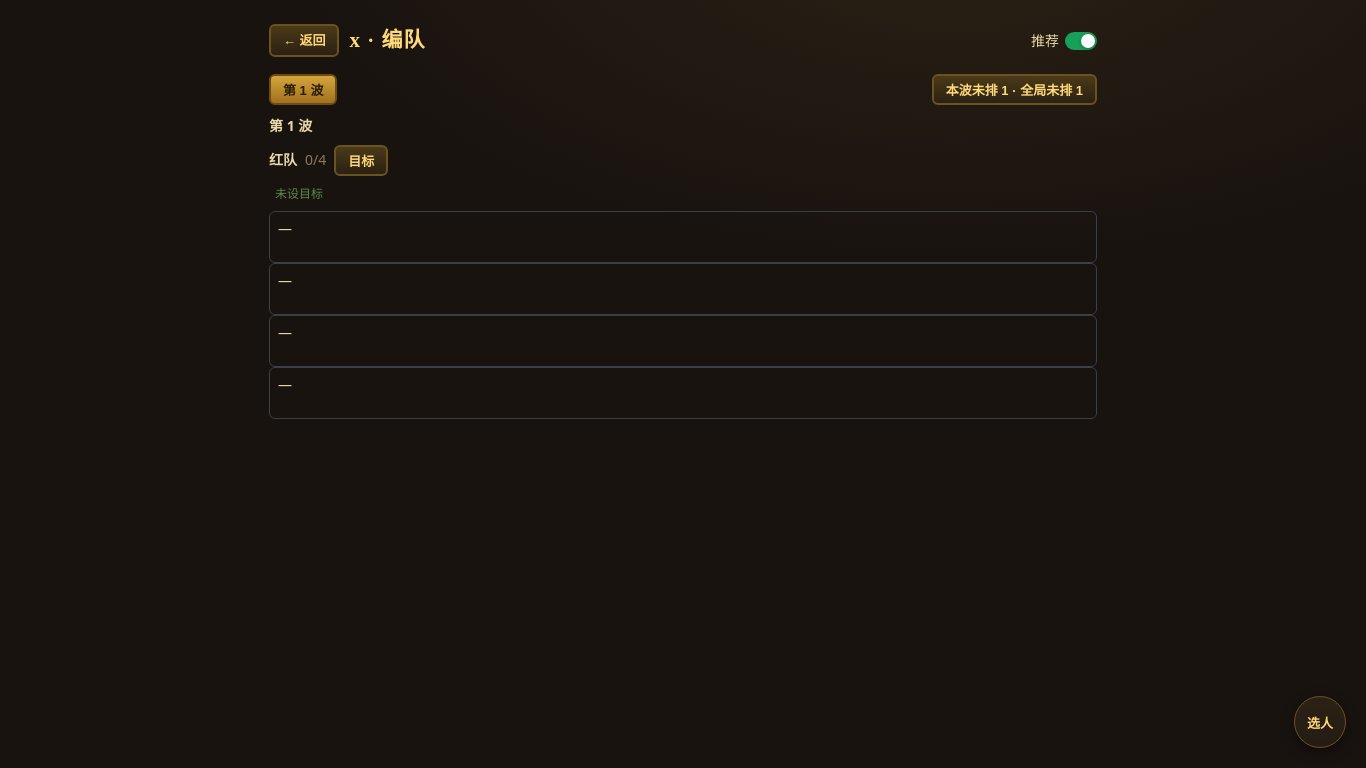
Scenario: RosterView › 渲染 FAB 与网格；点 FAB 打开角色池弹框
Expected: the element with test id "roster-grid" showing "第 1 波 红队 0/4 目标 未设目标 — — — —" is shown, [269, 115, 1097, 433]
Click the button with test id "pool-fab": (1320, 722) [1294, 696, 1346, 748]
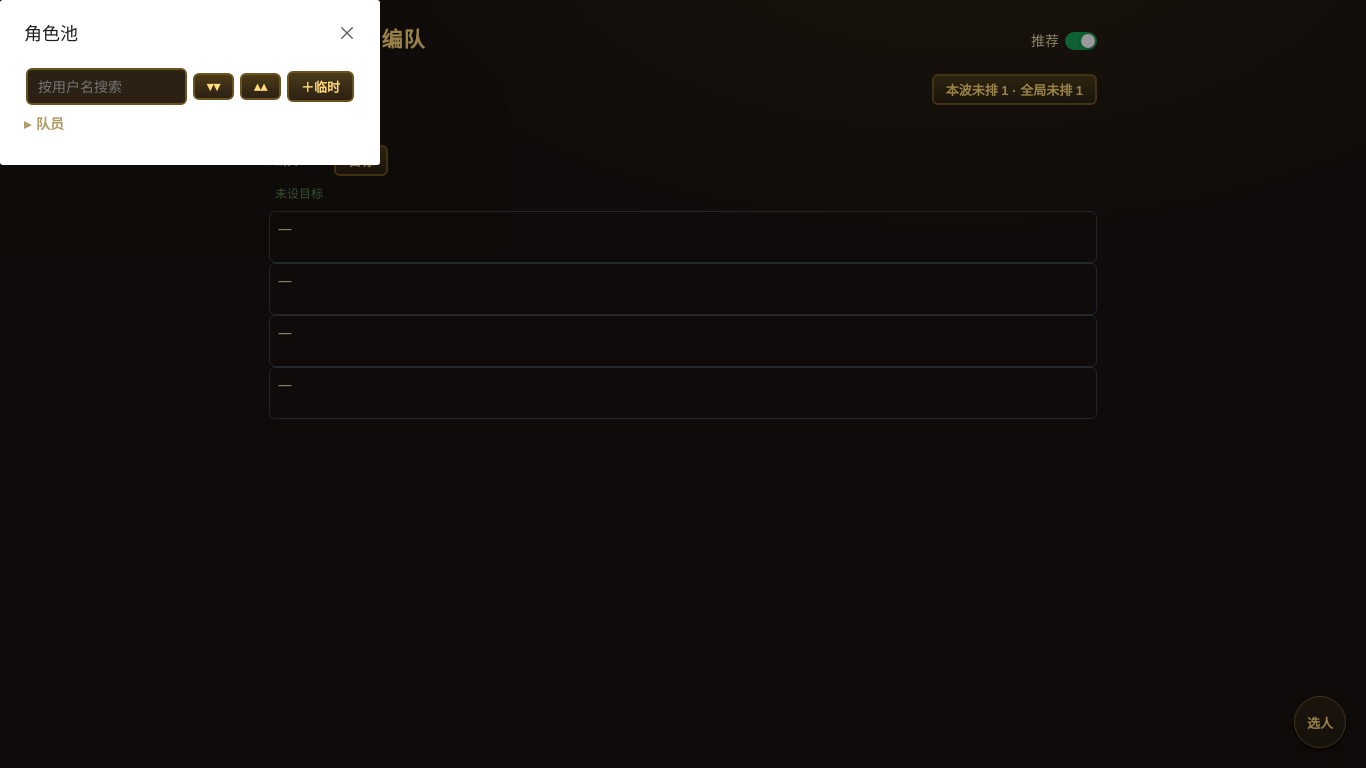
Click the element showing "▸ 队员": (44, 123) [24, 114, 64, 133]
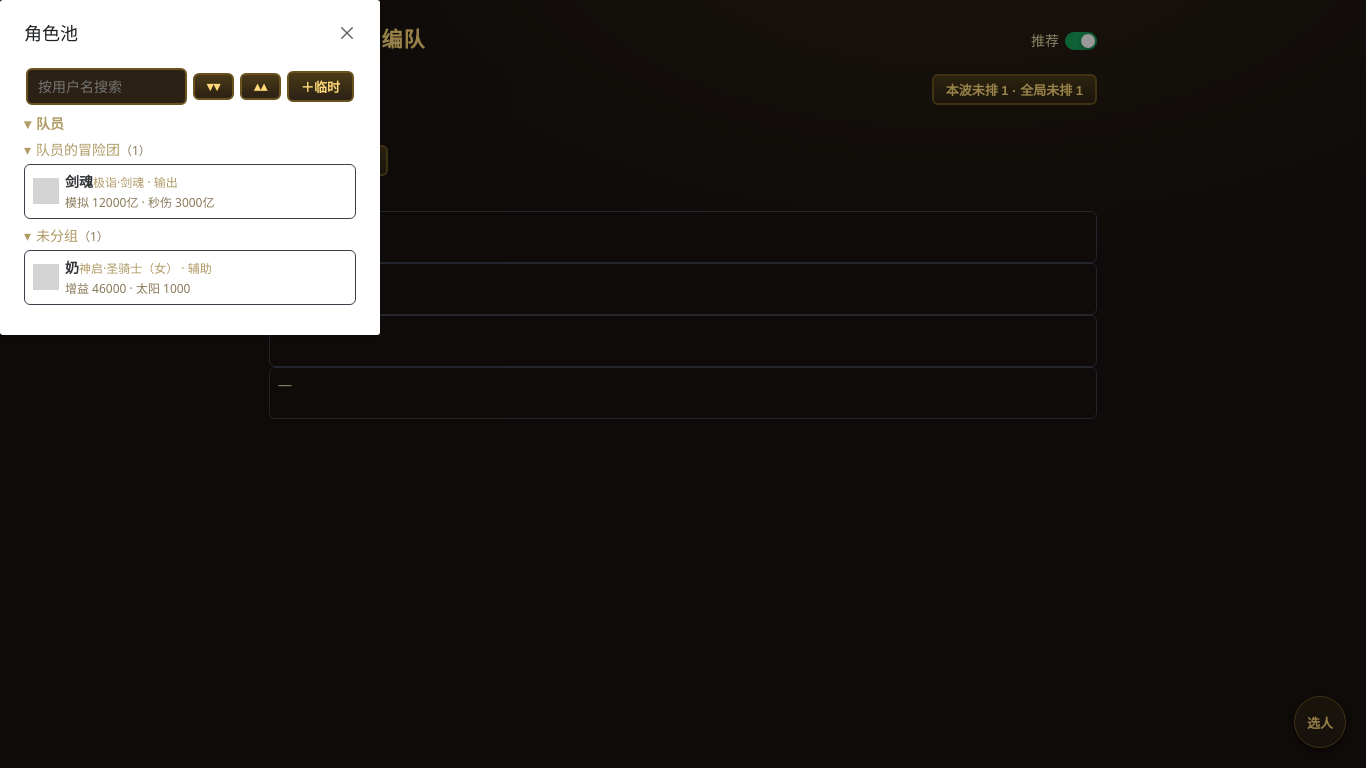
Now the element that starts with "神启·圣骑士（女） · 辅助" is shown, box [24, 250, 356, 305]
